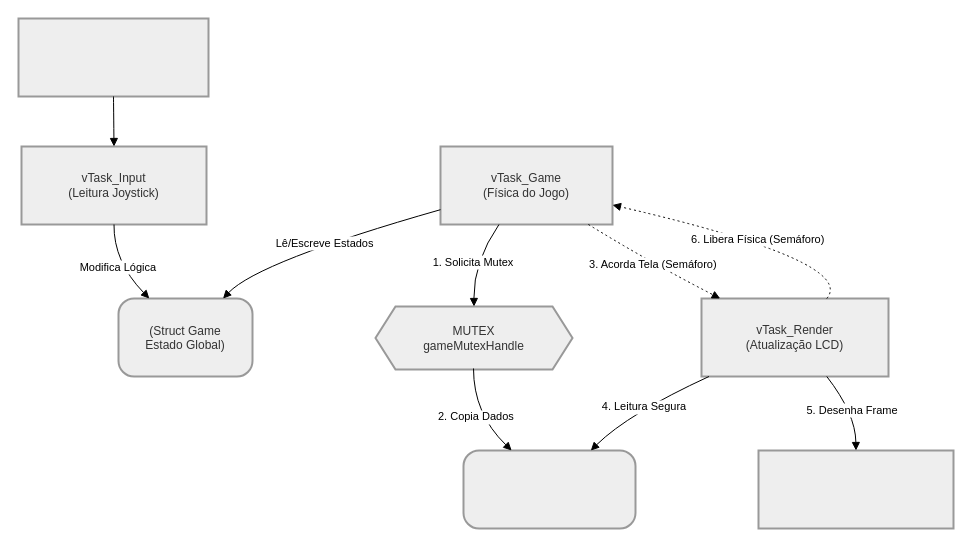
Some shapes in this 971 by 546 pixel diagram are drawn without their labels. Here are the shapes that lost their labels. From the top down, the centre of each, then its label:
At pixel 113 57: "Joystick Analógico (ADC1 via DMA)".
At pixel 549 489: "(game_render_copy Buffer Espelho)".
At pixel 855 489: "Display ST7735 (SPI por Hardware)".
